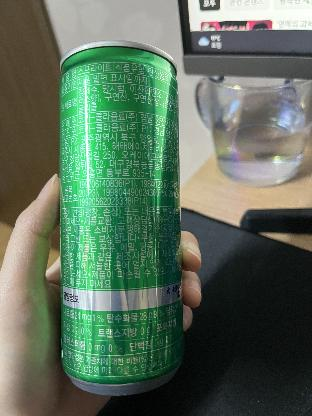Can: (60, 40, 184, 394)
